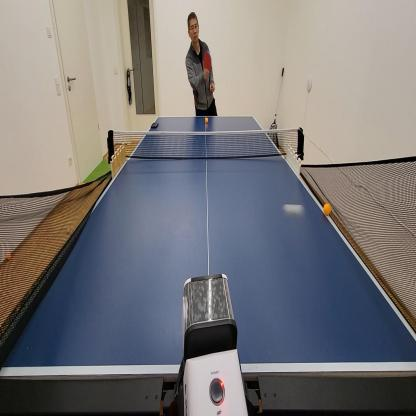Ball: (282, 200, 306, 219), (323, 201, 332, 217), (5, 251, 13, 263), (204, 115, 209, 125), (66, 227, 71, 235)
